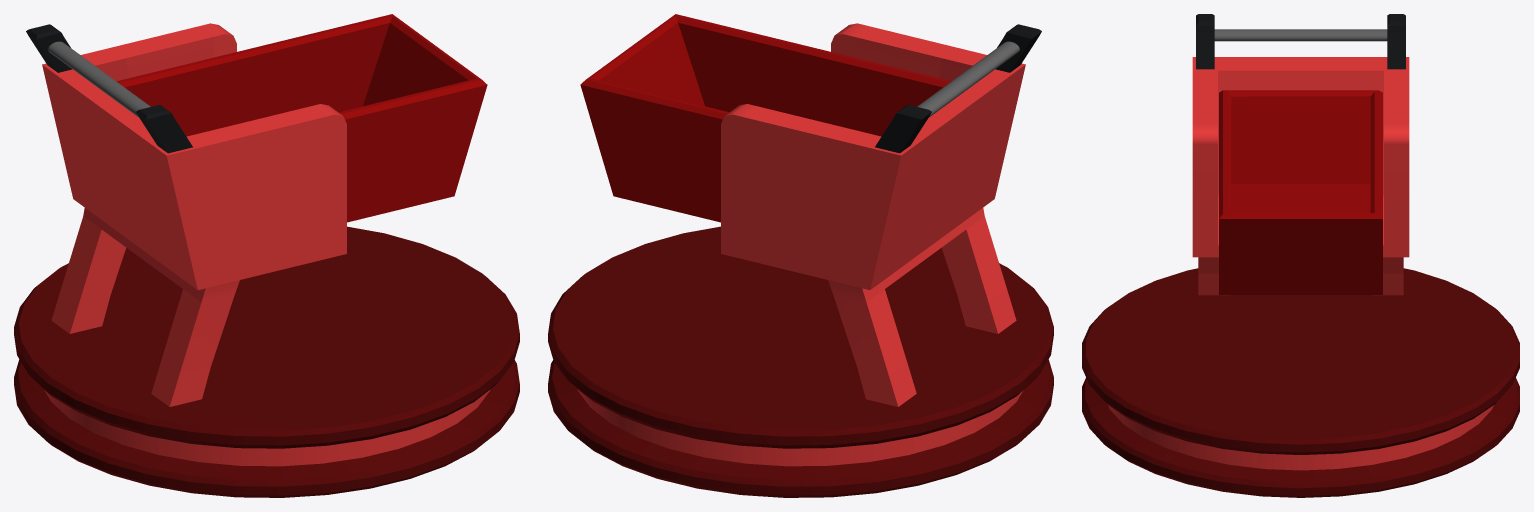
The model's file is BIG CARRELLO RED.fbx.
The picture shows the model from 3 angles, left to right: view 1: azimuth 30°, elevation 25°; view 2: azimuth 150°, elevation 25°; view 3: azimuth 270°, elevation 25°; orthographic projection. The views are drawn at different scales.
Visible parts, largest first — view 1: polySurface1, polySurface3, pCube1; view 2: polySurface1, polySurface3, pCube1; view 3: polySurface1, pCube1, polySurface3.
Part boxes in pixels (x1,y1,x2,y2): polySurface1: (14, 226, 519, 497); polySurface3: (26, 23, 346, 406); pCube1: (117, 14, 487, 222); polySurface1: (548, 226, 1053, 497); polySurface3: (721, 23, 1041, 406); pCube1: (580, 14, 950, 222); polySurface1: (1082, 268, 1519, 497); pCube1: (1219, 90, 1382, 294); polySurface3: (1192, 14, 1409, 295).
Bounding box in the file's own units: 1148 × 912 × 1143.
1 material, 1 textured.
